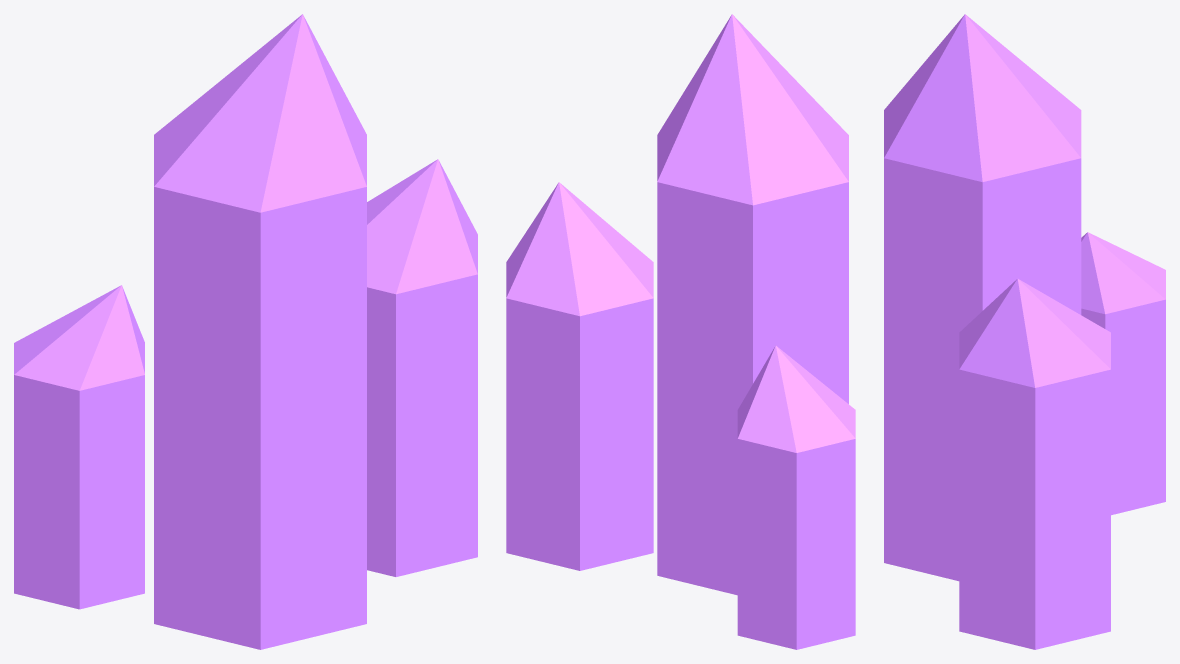
The model's file is Crystal_Blockout_A.glb.
The picture shows the model from 3 angles, left to right: view 1: azimuth 30°, elevation 25°; view 2: azimuth 150°, elevation 25°; view 3: azimuth 270°, elevation 25°; orthographic projection. The views are drawn at different scales.
Parts seen in each view (by area): view 1: Crystal_Blockout_A; view 2: Crystal_Blockout_A; view 3: Crystal_Blockout_A.
Boxes of the visible parts, x1=… form: Crystal_Blockout_A: x1=14, y1=14, x2=477, y2=649; Crystal_Blockout_A: x1=506, y1=14, x2=855, y2=649; Crystal_Blockout_A: x1=884, y1=14, x2=1165, y2=649.
Size of the model in its own units: 2.6 by 3.4 by 1.61.
